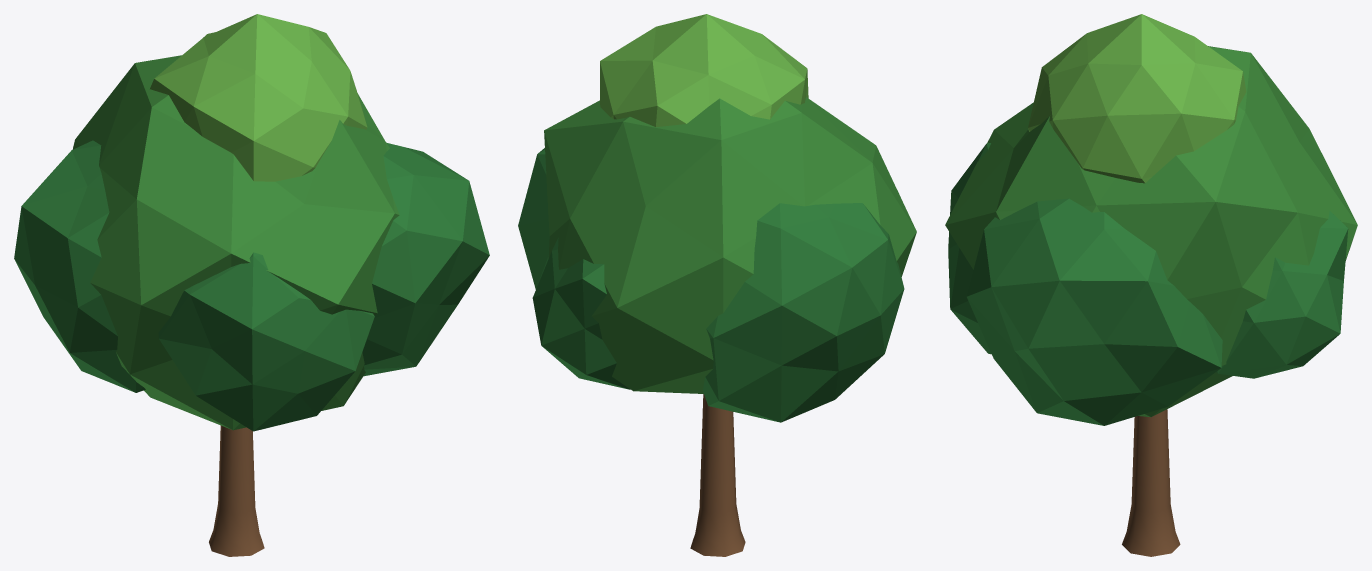
The model's file is arvore-redonda.glb.
The picture shows the model from 3 angles, left to right: view 1: azimuth 30°, elevation 25°; view 2: azimuth 150°, elevation 25°; view 3: azimuth 270°, elevation 25°; orthographic projection. The views are drawn at different scales.
Visible parts, largest first — view 1: Copa, Tronco; view 2: Copa, Tronco; view 3: Copa, Tronco.
Part boxes in pixels (x1,y1,x2,y2): Copa: (14, 14, 489, 431); Tronco: (209, 425, 264, 556); Copa: (518, 14, 916, 422); Tronco: (690, 394, 745, 556); Copa: (945, 14, 1357, 425); Tronco: (1122, 409, 1180, 556).
Size of the model in its own units: 4.95 by 6.67 by 4.64.
